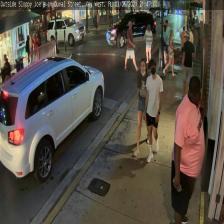person: (171, 76, 204, 224), (143, 58, 163, 162), (132, 58, 150, 156)
